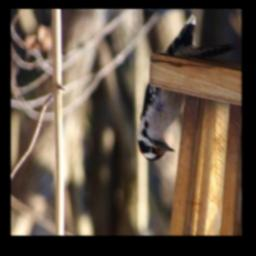Woodpecker: (137, 16, 235, 162)
